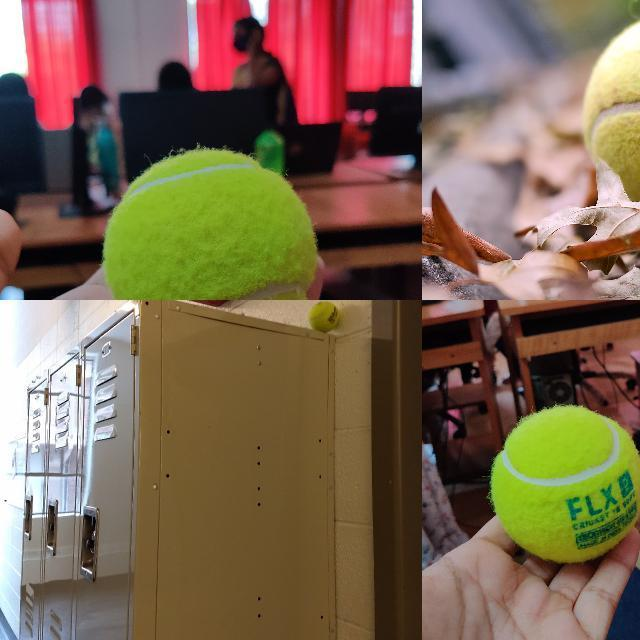tennis-ball: (102, 148, 316, 299), (490, 405, 639, 563), (582, 7, 639, 210), (307, 300, 339, 332)
